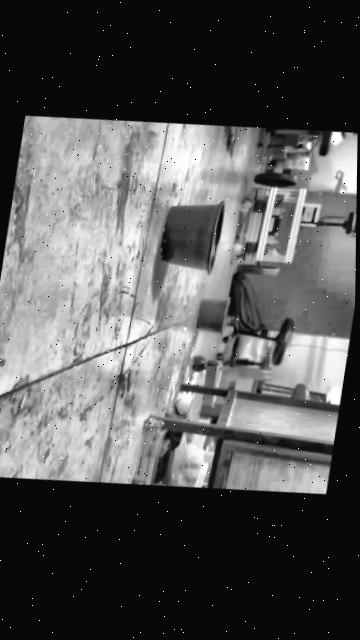pot: (158, 193, 227, 279), (195, 295, 229, 337)
